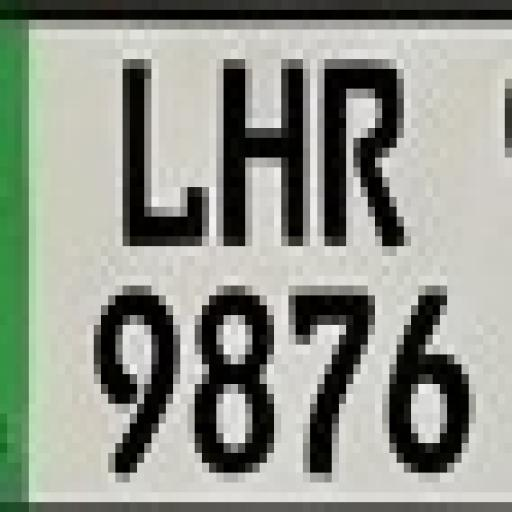6: (387, 284, 485, 481)
7: (287, 288, 379, 476)
8: (196, 291, 280, 489)
9: (86, 288, 187, 483)
H: (220, 55, 310, 266)
L: (118, 58, 205, 252)
R: (321, 51, 418, 252)
